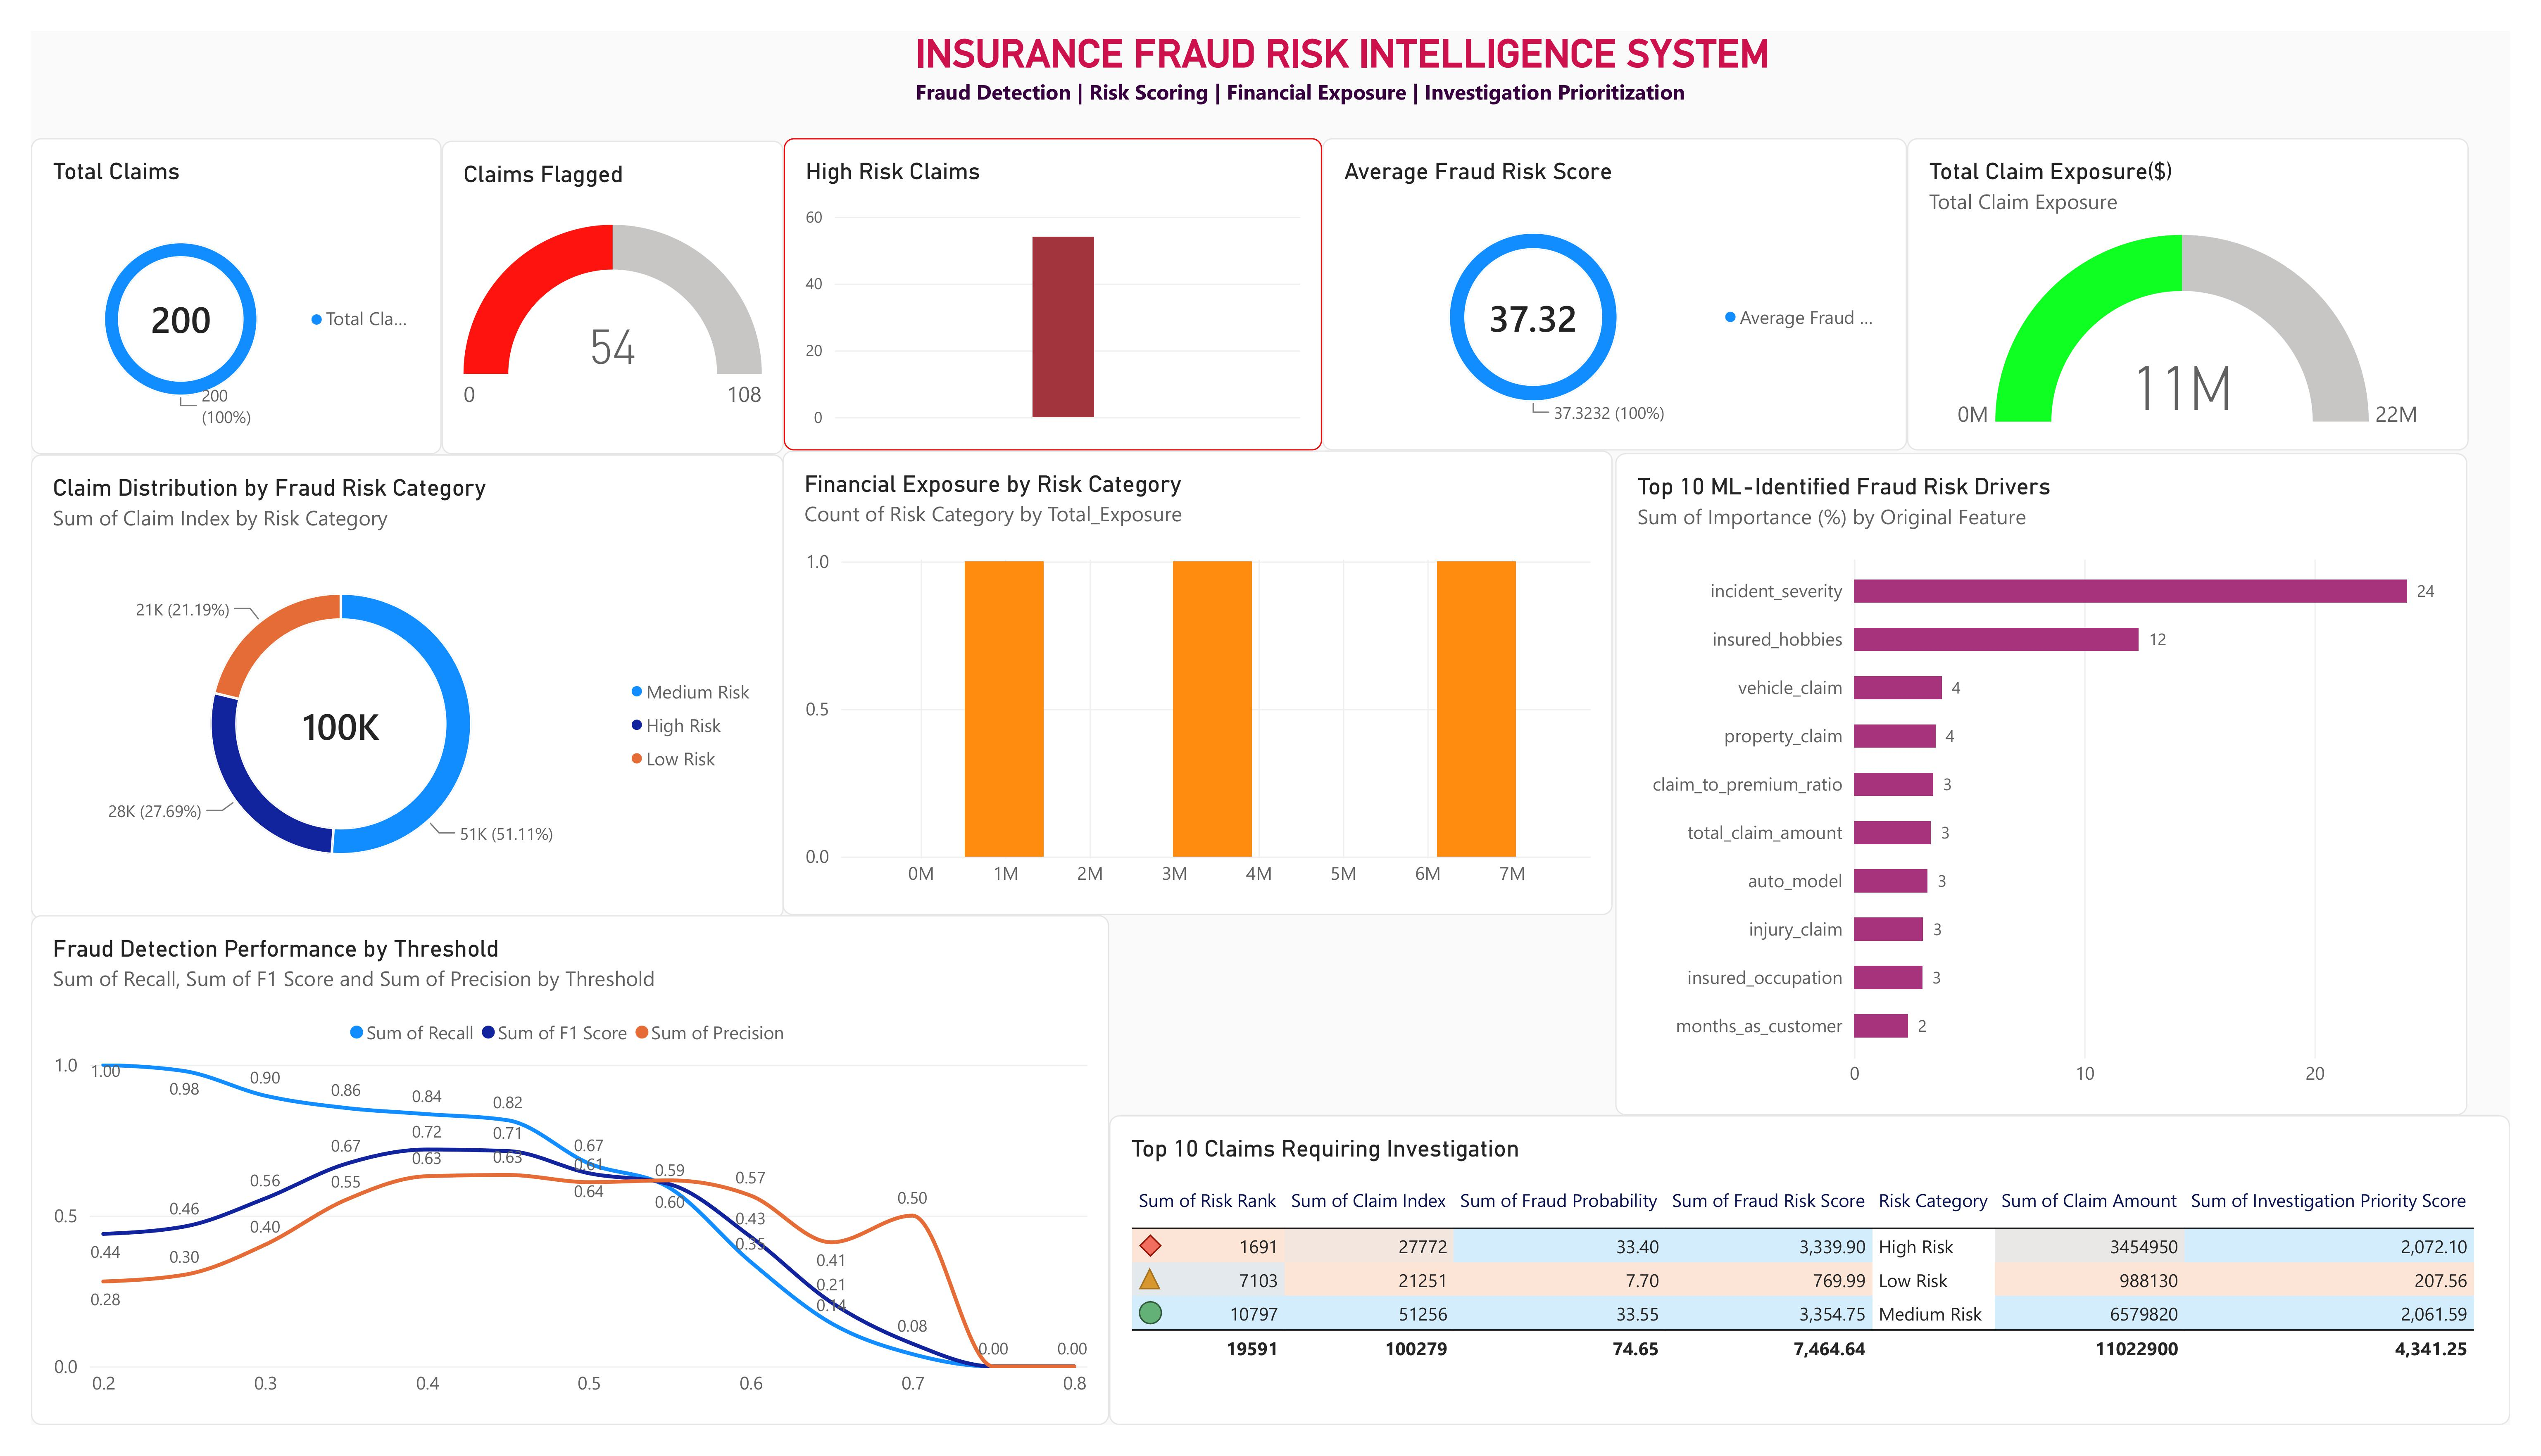

The page's visual inventory and layout, read from the dashboard file:
{"tool":"powerbi","page":{"name":"Page 1","canvas":[1920,1080],"ordinal":0},"visuals":[{"type":"textbox","title":"INSURANCE FRAUD RISK INTELLIGENCE SYSTEM","box":[685.4,0,695.7,102.9],"z":0},{"type":"donutChart","fields":{"Y":["dashboard_master.Total Claims"]},"box":[0,82.5,317.5,245],"z":1000},{"type":"gauge","fields":{"Y":["dashboard_master.Claims Flagged"]},"box":[317.5,85,265,242.5],"z":2000},{"type":"clusteredColumnChart","fields":{"Y":["dashboard_master.High Risk Claims"]},"box":[582.5,82.5,417.5,242.5],"z":3000},{"type":"gauge","title":"Total Claim Exposure($)","fields":{"Y":["dashboard_master.Total Claim Exposure"]},"box":[1452.5,82.5,435,242.5],"z":4000},{"type":"donutChart","fields":{"Y":["dashboard_master.Average Fraud Risk Score"]},"box":[1000,82.5,452.5,242.5],"z":5000},{"type":"donutChart","title":"Claim Distribution by Fraud Risk Category","fields":{"Category":["dashboard_master.Risk Category"],"Y":["Sum(dashboard_master.Claim Index)"]},"box":[0,327.5,582.5,360],"z":6000},{"type":"clusteredColumnChart","title":"Financial Exposure by Risk Category","fields":{"Category":["financial_priority_summary.Total_Exposure"],"Y":["CountNonNull(financial_priority_summary.Risk Category)"]},"box":[581.8,325.5,643.6,360],"z":7000},{"type":"clusteredBarChart","title":"Top 10 ML-Identified Fraud Risk Drivers","fields":{"Category":["fraud_driver_summary.Original Feature"],"Y":["Sum(fraud_driver_summary.Importance (%))"]},"box":[1227.3,327.3,660,512.7],"z":8000},{"type":"lineChart","title":"Fraud Detection Performance by Threshold","fields":{"Category":["threshold_analysis.Threshold"],"Y":["Sum(threshold_analysis.Recall)","Sum(threshold_analysis.F1 Score)","Sum(threshold_analysis.Precision)"]},"box":[0,685,835,395],"z":9000},{"type":"tableEx","title":"Top 10 Claims Requiring Investigation","fields":{"Values":["Sum(dashboard_master.Risk Rank)","Sum(dashboard_master.Claim Index)","Sum(dashboard_master.Fraud Probability)","Sum(dashboard_master.Fraud Risk Score)","dashboard_master.Risk Category","Sum(dashboard_master.Claim Amount)","Sum(dashboard_master.Investigation Priority Score)"]},"box":[835,840,1085,240],"z":10000}]}

Visuals, with their boxes on the page's 1920x1080 design canvas (x1, y1, x2, y2). These are canvas units, not pixel positions in the 2541x1456 screenshot, which may show the page scaled, cropped or inside an application window:
"INSURANCE FRAUD RISK INTELLIGENCE SYSTEM" textbox: 685/0/1381/103
donutChart - dashboard_master.Total Claims: 0/82/318/328
gauge - dashboard_master.Claims Flagged: 318/85/582/328
clusteredColumnChart - dashboard_master.High Risk Claims: 582/82/1000/325
"Total Claim Exposure($)" gauge: 1452/82/1888/325
donutChart - dashboard_master.Average Fraud Risk Score: 1000/82/1452/325
"Claim Distribution by Fraud Risk Category" donutChart: 0/328/582/688
"Financial Exposure by Risk Category" clusteredColumnChart: 582/326/1225/686
"Top 10 ML-Identified Fraud Risk Drivers" clusteredBarChart: 1227/327/1887/840
"Fraud Detection Performance by Threshold" lineChart: 0/685/835/1080
"Top 10 Claims Requiring Investigation" tableEx: 835/840/1920/1080
